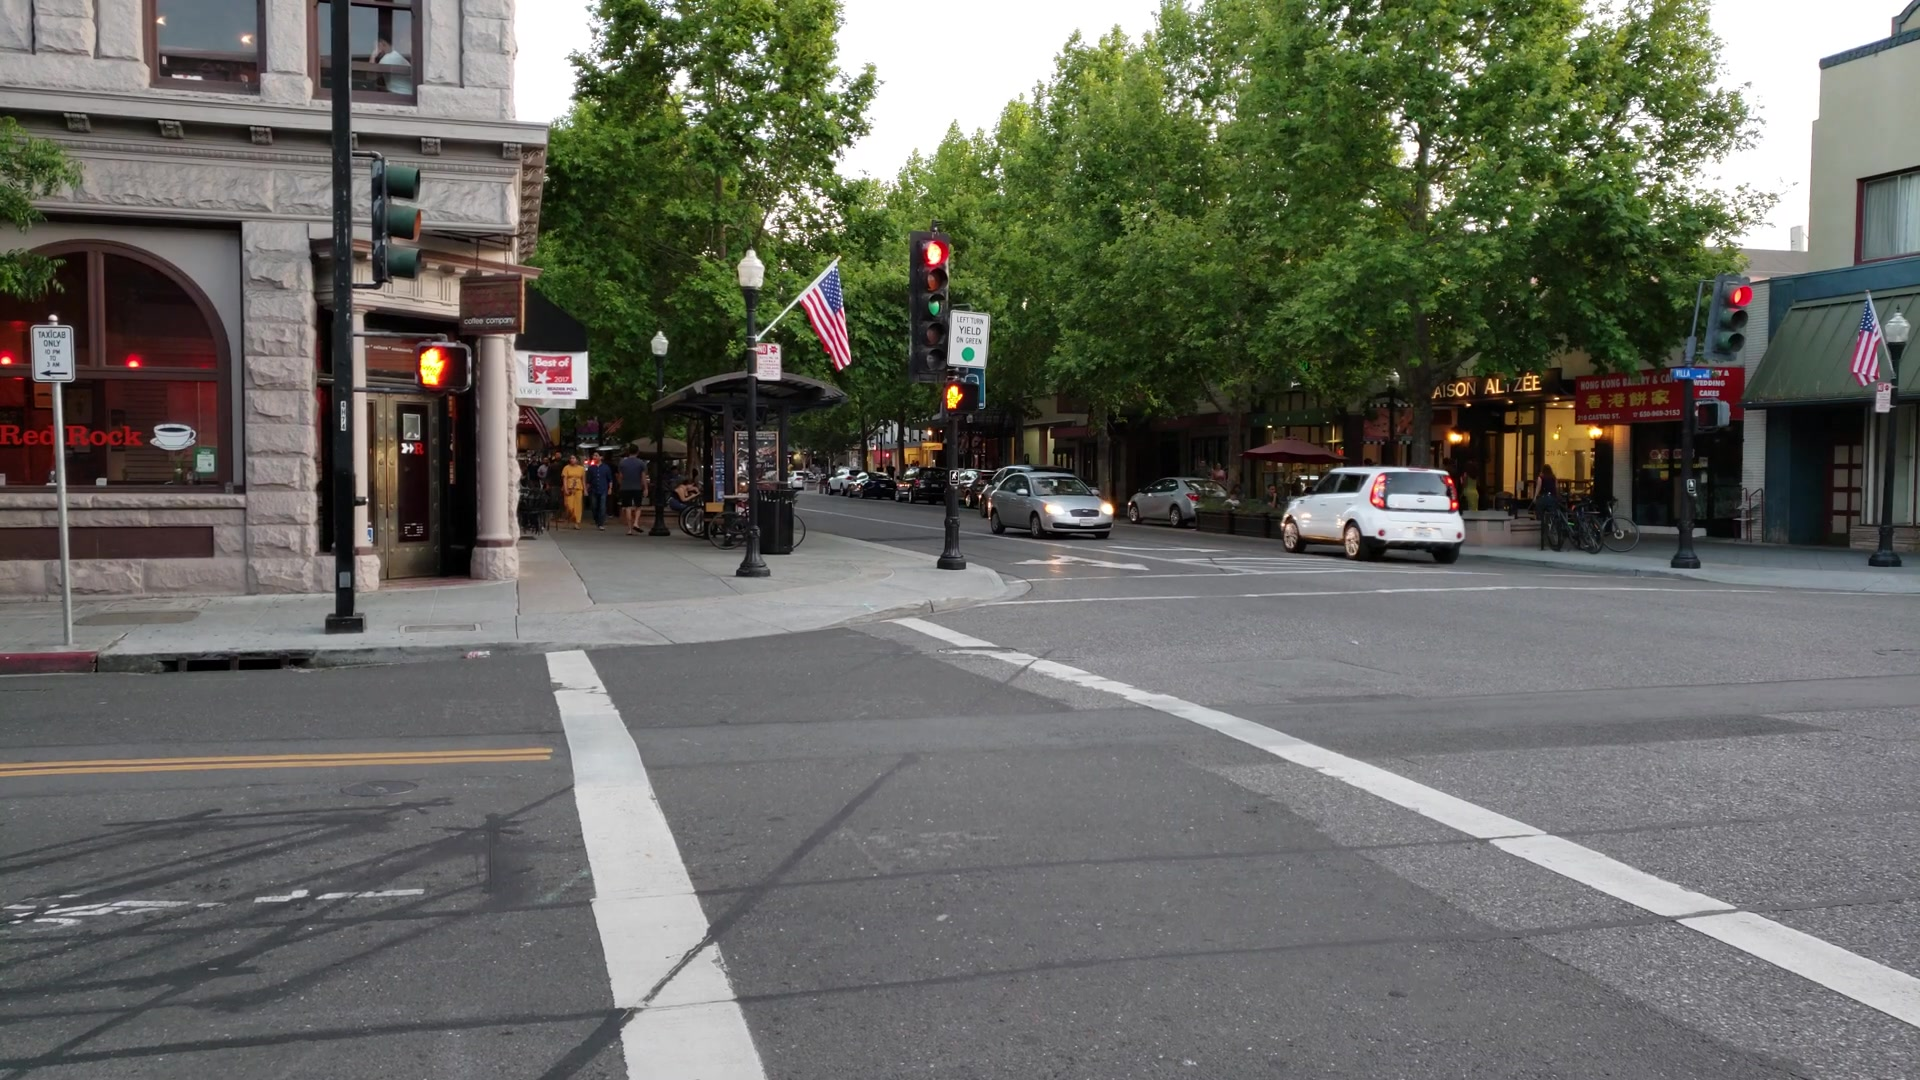vehicle_away: (1276, 465, 1468, 566)
vehicle_toward: (989, 469, 1114, 539)
